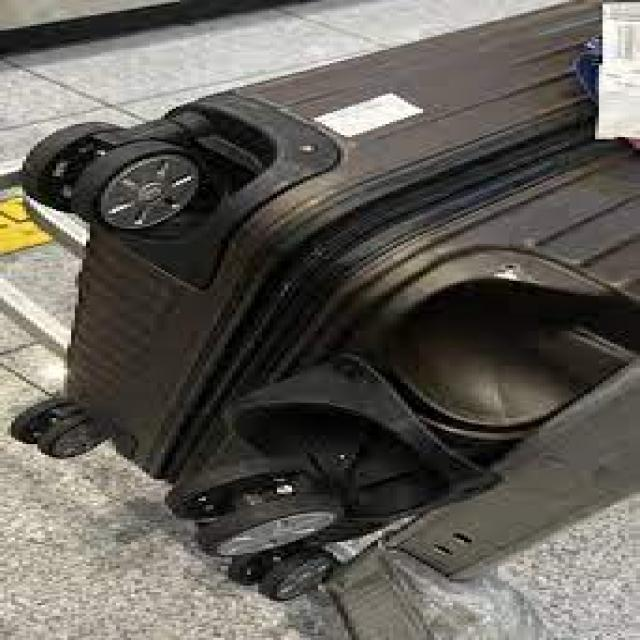Damage-bag: (168, 249, 636, 554)
